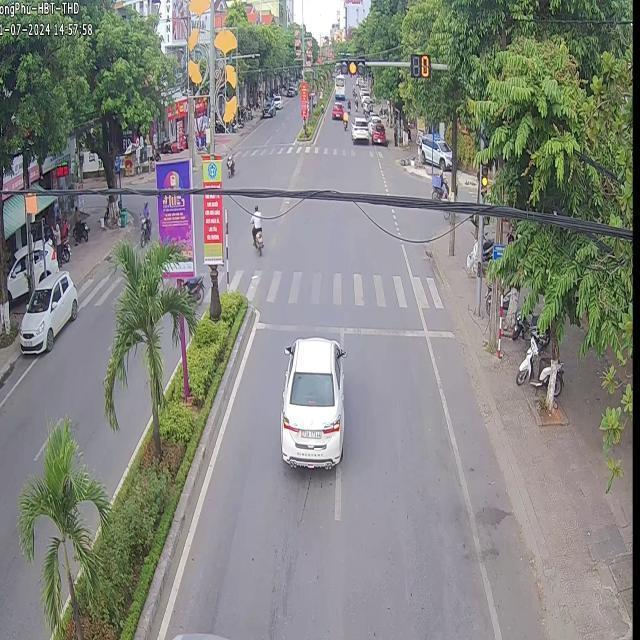car: (279, 336, 344, 467), (18, 269, 77, 351)
motobike: (249, 205, 262, 252)
stop_line: (254, 319, 452, 336)
yellow_light: (341, 56, 365, 72), (412, 54, 428, 77), (480, 156, 487, 192)
